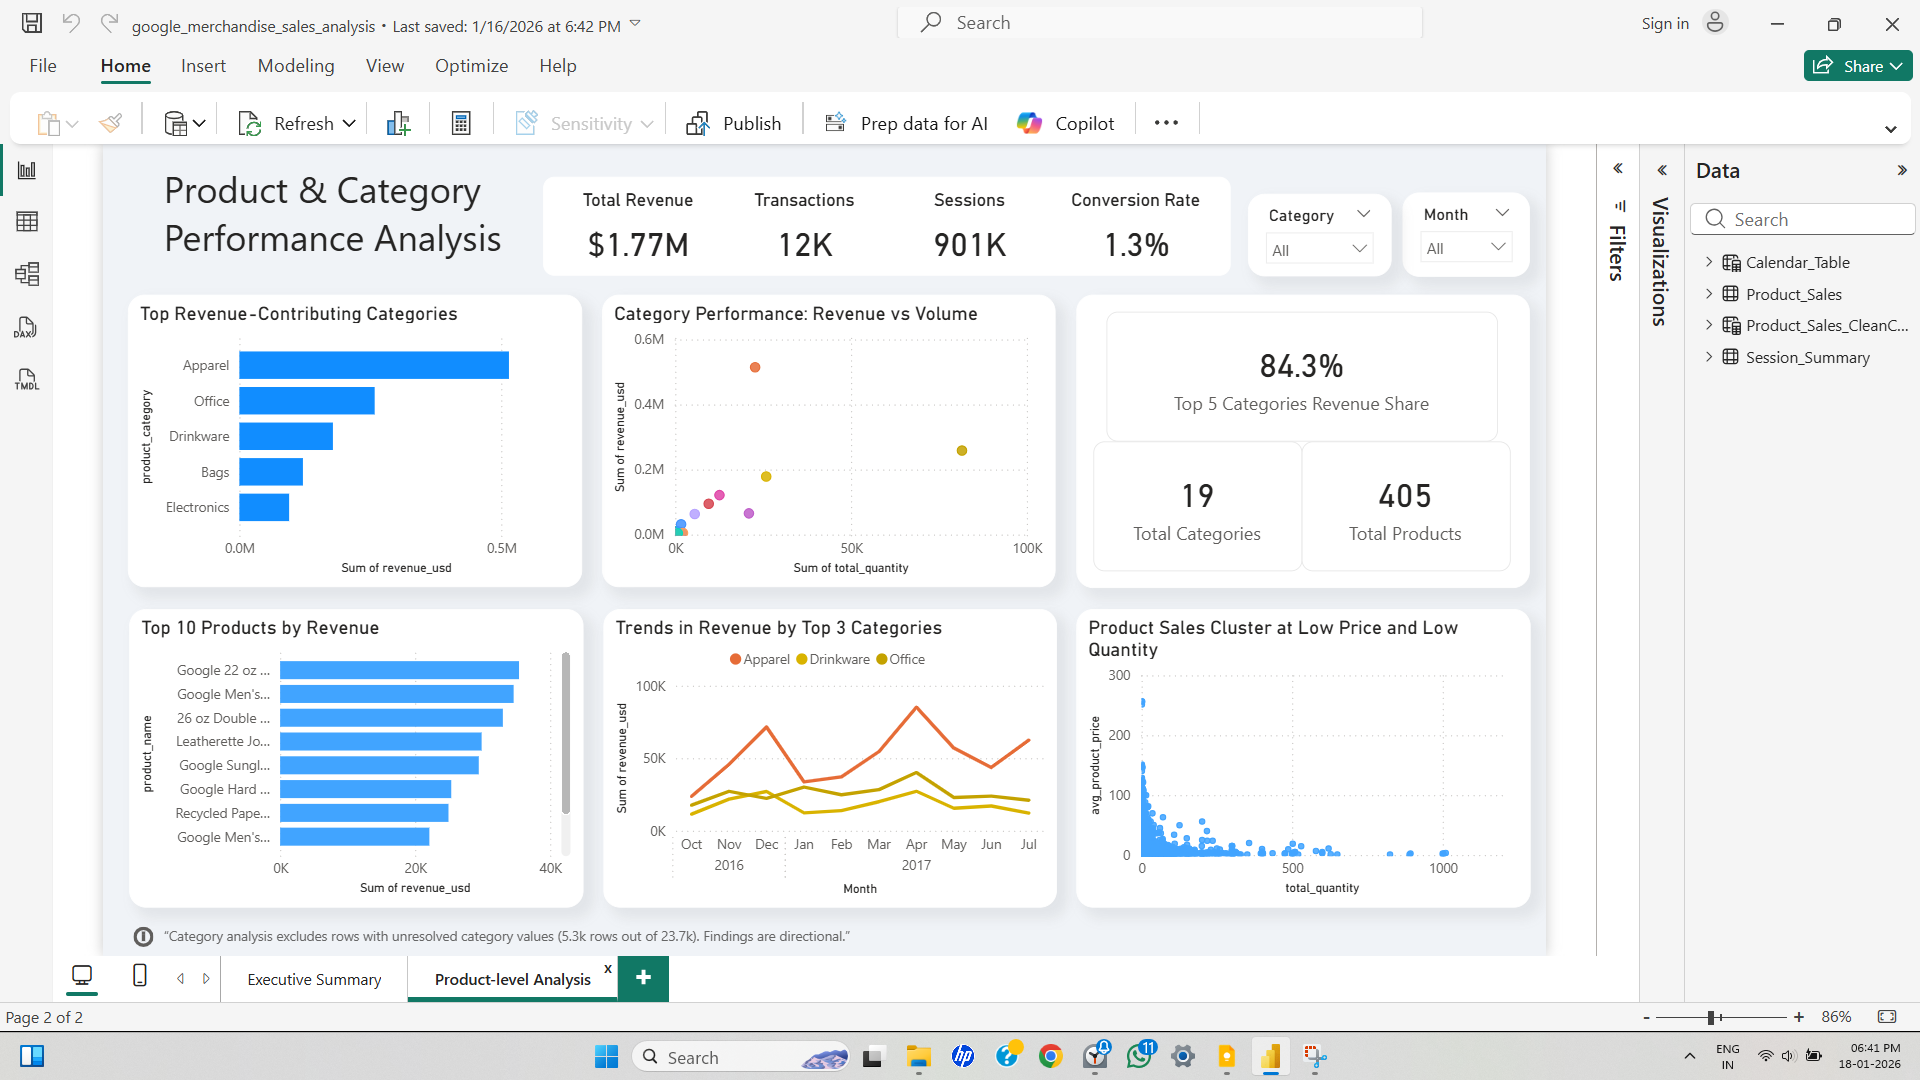

Layout of this report page (visuals, bound fields, positions):
{"tool":"powerbi","page":{"name":"Product-level Analysis","canvas":[1280,720],"ordinal":1},"visuals":[{"type":"card","title":"Total Revenue","fields":{"Values":["Sum(Query1.revenue_usd)"]},"box":[401.5,41.2,147.3,74.9],"z":0,"group":"g1"},{"type":"card","title":"Sessions","fields":{"Values":["Sum(Query1.sessions)"]},"box":[696,41.2,147.3,74.9],"z":1000,"group":"g1"},{"type":"scatterChart","title":"Product Sales Cluster at Low Price and Low Quantity","fields":{"Y":["Product_Sales_CleanCategory.avg_product_price"],"X":["Product_Sales_CleanCategory.total_quantity"]},"box":[863.9,412.2,402.8,264.8],"z":1000,"group":"g3"},{"type":"card","title":"Transactions","fields":{"Values":["Sum(Query1.transactions)"]},"box":[548.8,41.2,147.3,74.9],"z":2000,"group":"g1"},{"type":"slicer","fields":{"Values":["Calendar_Table.Month"]},"box":[1153,42.5,113.2,74.6],"z":2000},{"type":"card","title":"Conversion Rate","fields":{"Values":["Session_Summary.Conversion Rate"]},"box":[843.3,41.2,147.3,75.7],"z":3000,"group":"g1"},{"type":"slicer","fields":{"Values":["Product_Sales_CleanCategory.product_category"]},"box":[1015.3,43.8,127.4,73.3],"z":4000},{"type":"textbox","box":[48.9,12.9,317.8,104.2],"z":5000},{"type":"shape","box":[863.8,134,402.1,260.6],"z":6000},{"type":"shape","box":[389.9,29.6,610,87.5],"z":7000},{"type":"scatterChart","title":"Category Performance: Revenue vs Volume","fields":{"X":["Sum(Product_Sales_CleanCategory.total_quantity)"],"Y":["Sum(Product_Sales_CleanCategory.revenue_usd)"],"Series":["Product_Sales_CleanCategory.product_category"]},"box":[443,134,402.1,259.4],"z":7000,"group":"g4"},{"type":"group","id":"g1","title":"Group 1","box":[401.5,41.2,588.1,74.6],"z":8000},{"type":"clusteredBarChart","title":"Top 10 Products by Revenue","fields":{"Category":["Product_Sales_CleanCategory.product_name"],"Y":["Sum(Product_Sales_CleanCategory.revenue_usd)"]},"box":[23.6,412.2,402.8,264.8],"z":8000,"group":"g3"},{"type":"clusteredBarChart","title":"Top Revenue-Contributing Categories","fields":{"Y":["Sum(Product_Sales_CleanCategory.revenue_usd)"],"Category":["Product_Sales_CleanCategory.product_category"]},"box":[22.3,134,403,259.9],"z":9000,"group":"g4"},{"type":"textbox","box":[48.9,687.2,720.6,33.5],"z":9000},{"type":"group","id":"g2","title":"Group 3","box":[878.7,148.9,371.1,230.8],"z":10000},{"type":"card","title":"Total Categories","fields":{"Values":["Product_Sales_CleanCategory.Total Categories"]},"box":[878.7,263.9,185.3,115],"z":11000,"group":"g2"},{"type":"group","id":"g3","title":"Group 4","box":[23.6,412,1243.1,265],"z":11000},{"type":"group","id":"g4","title":"Group 2","box":[22.3,134,822.8,260.6],"z":12000},{"type":"card","fields":{"Values":["Product_Sales_CleanCategory.Total Products"]},"box":[1064,263.9,185.3,115],"z":12000,"group":"g2"},{"type":"card","fields":{"Values":["Product_Sales_CleanCategory.Measure 3"]},"box":[890.3,148.9,347.4,115],"z":13000,"group":"g2"},{"type":"actionButton","box":[23.2,687.2,25.7,33.5],"z":13000},{"type":"lineChart","title":"Trends in Revenue by Top 3 Categories","fields":{"Category":["Calendar_Table.Date Hierarchy.Year","Calendar_Table.Date Hierarchy.Month","Calendar_Table.Date Hierarchy.Day"],"Y":["Sum(Product_Sales_CleanCategory.revenue_usd)"],"Series":["Product_Sales_CleanCategory.product_category"]},"box":[444.1,412,402,265],"z":16000,"group":"g3"}]}

Visuals, with their boxes on the page's 1280x720 design canvas (x1, y1, x2, y2). These are canvas units, not pixel positions in the 1920x1080 screenshot, which may show the page scaled, cropped or inside an application window:
"Total Revenue" card: (x1=402, y1=41, x2=549, y2=116)
"Sessions" card: (x1=696, y1=41, x2=843, y2=116)
"Product Sales Cluster at Low Price and Low Quantity" scatterChart: (x1=864, y1=412, x2=1267, y2=677)
"Transactions" card: (x1=549, y1=41, x2=696, y2=116)
slicer - Calendar_Table.Month: (x1=1153, y1=42, x2=1266, y2=117)
"Conversion Rate" card: (x1=843, y1=41, x2=991, y2=117)
slicer - Product_Sales_CleanCategory.product_category: (x1=1015, y1=44, x2=1143, y2=117)
textbox: (x1=49, y1=13, x2=367, y2=117)
shape: (x1=864, y1=134, x2=1266, y2=395)
shape: (x1=390, y1=30, x2=1000, y2=117)
"Category Performance: Revenue vs Volume" scatterChart: (x1=443, y1=134, x2=845, y2=393)
"Group 1" group: (x1=402, y1=41, x2=990, y2=116)
"Top 10 Products by Revenue" clusteredBarChart: (x1=24, y1=412, x2=426, y2=677)
"Top Revenue-Contributing Categories" clusteredBarChart: (x1=22, y1=134, x2=425, y2=394)
textbox: (x1=49, y1=687, x2=770, y2=721)
"Group 3" group: (x1=879, y1=149, x2=1250, y2=380)
"Total Categories" card: (x1=879, y1=264, x2=1064, y2=379)
"Group 4" group: (x1=24, y1=412, x2=1267, y2=677)
"Group 2" group: (x1=22, y1=134, x2=845, y2=395)
card - Product_Sales_CleanCategory.Total Products: (x1=1064, y1=264, x2=1249, y2=379)
card - Product_Sales_CleanCategory.Measure 3: (x1=890, y1=149, x2=1238, y2=264)
actionButton: (x1=23, y1=687, x2=49, y2=721)
"Trends in Revenue by Top 3 Categories" lineChart: (x1=444, y1=412, x2=846, y2=677)
